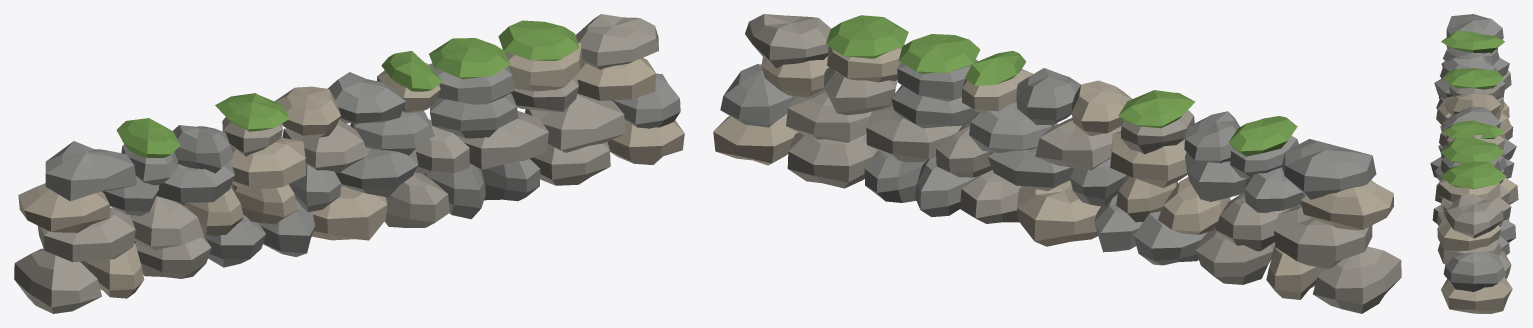
File: stone_wall_b.glb
3 views of the same model, side by side, from view 1: azimuth 30°, elevation 25°; view 2: azimuth 150°, elevation 25°; view 3: azimuth 270°, elevation 25° (orthographic). The views are drawn at different scales.
Parts seen in each view (by area): view 1: stone_wall_b; view 2: stone_wall_b; view 3: stone_wall_b.
Part boxes in pixels (x1,y1,x2,y2): stone_wall_b: (14,14,684,313); stone_wall_b: (713,14,1401,313); stone_wall_b: (1430,14,1518,313).
Size of what is drawn, in the model's own units: 3.31 by 0.7936 by 0.5489.
